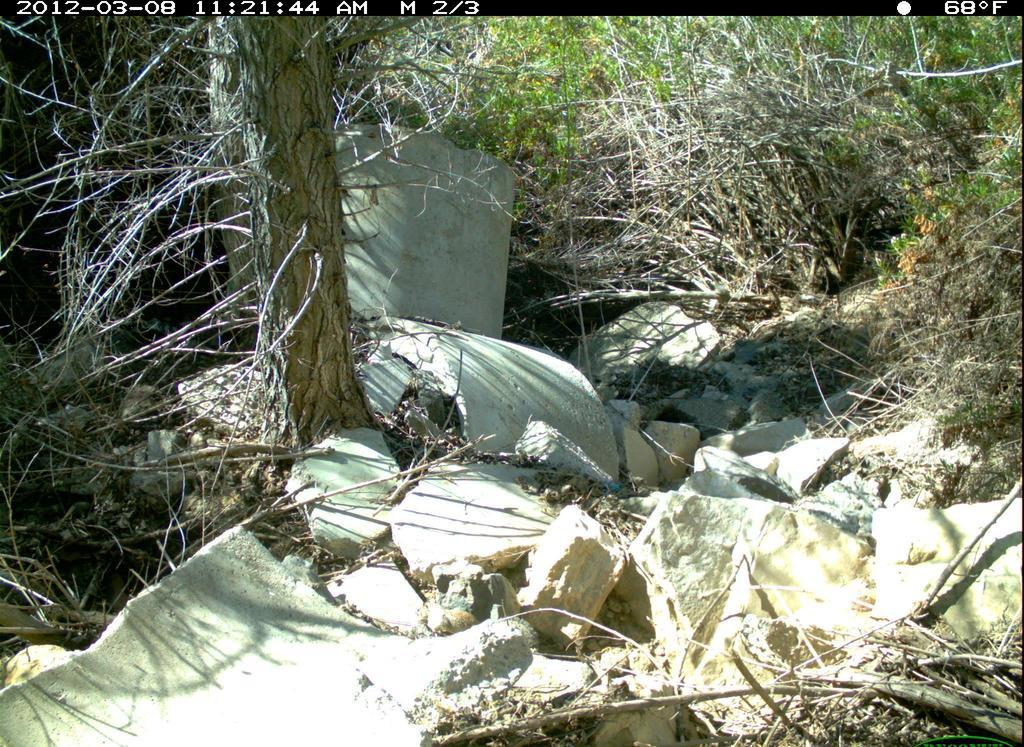squirrel: (424, 602, 504, 639)
